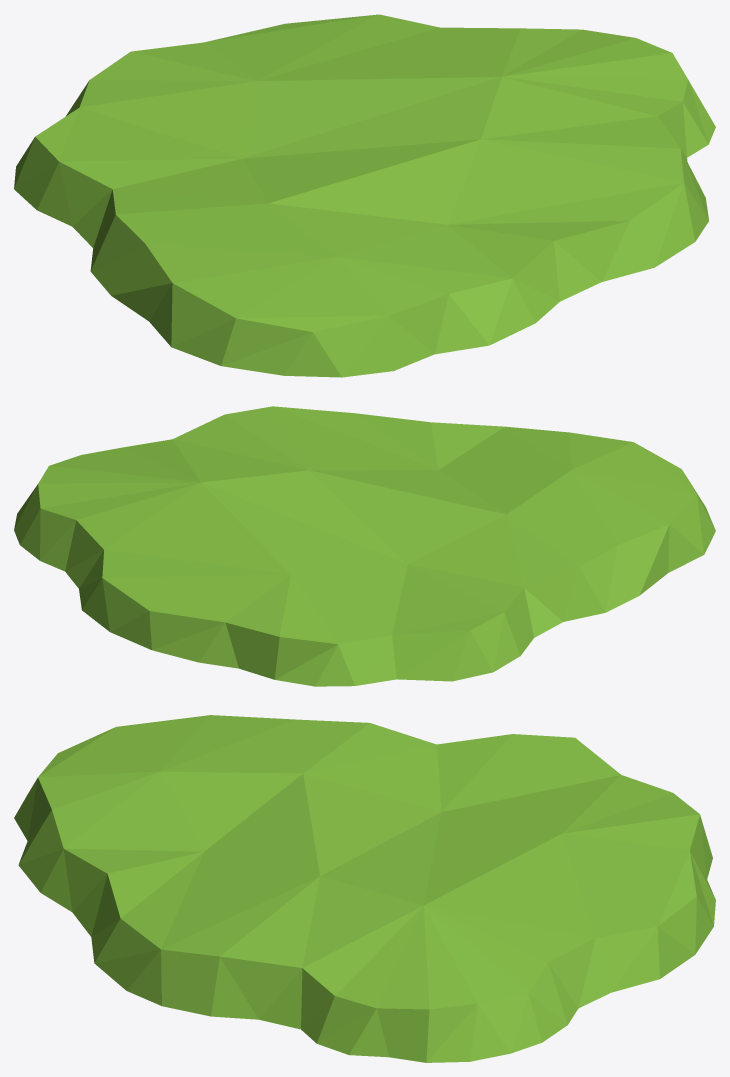
Rendered from um_grass006.FBX.
The picture shows the model from 3 angles, top to bottom: view 1: azimuth 30°, elevation 25°; view 2: azimuth 150°, elevation 25°; view 3: azimuth 270°, elevation 25°; orthographic projection. The views are drawn at different scales.
Parts seen in each view (by area): view 1: um_grass006; view 2: um_grass006; view 3: um_grass006.
Part boxes in pixels (x1,y1,x2,y2): um_grass006: [14, 14, 715, 377]; um_grass006: [14, 406, 715, 686]; um_grass006: [14, 715, 715, 1062].
Size of the model in its own units: 2.69 by 0.2587 by 2.54.
